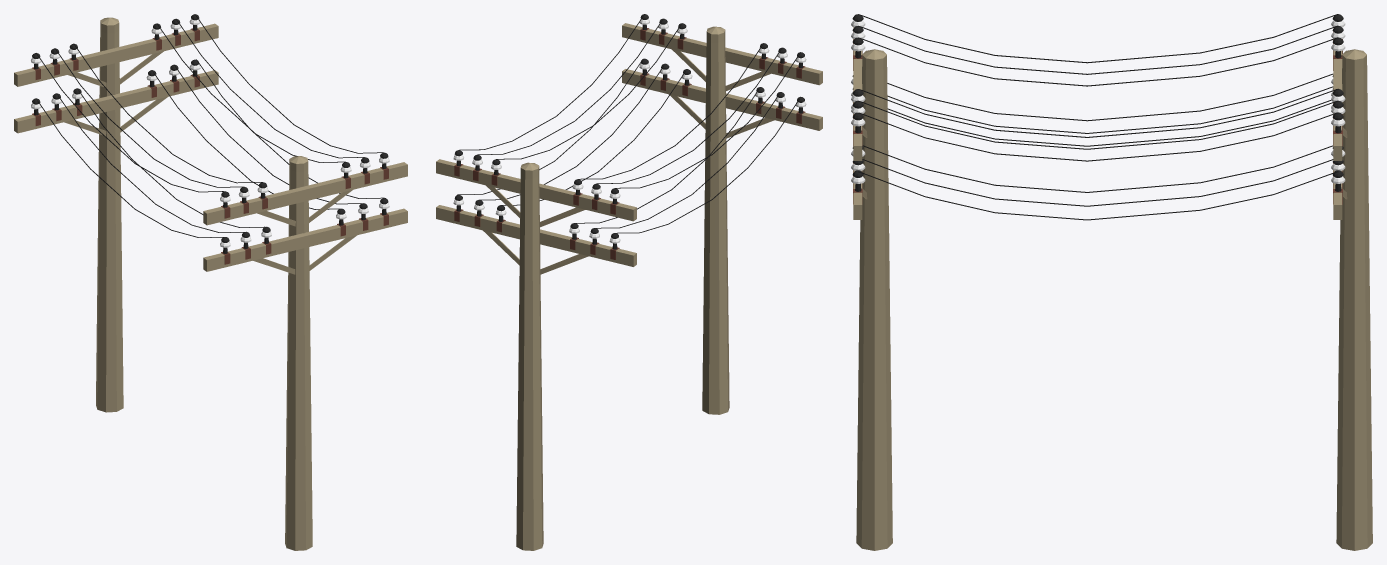
The model's file is 7YIloiV4cAt.glb.
3 renders of one model, left to right at view 1: azimuth 30°, elevation 25°; view 2: azimuth 150°, elevation 25°; view 3: azimuth 270°, elevation 25°, orthographic. The views are drawn at different scales.
Parts seen in each view (by area): view 1: Node; view 2: Node; view 3: Node.
Boxes of the visible parts, x1,y1,x2,y2 form: Node: (14,14,407,550); Node: (436,14,822,550); Node: (851,14,1372,550).
Size of the model in its own units: 0.541 by 1 by 0.9586.
